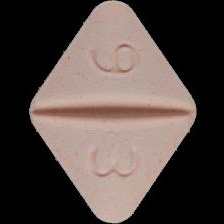16590-802: (0, 0, 224, 224)
